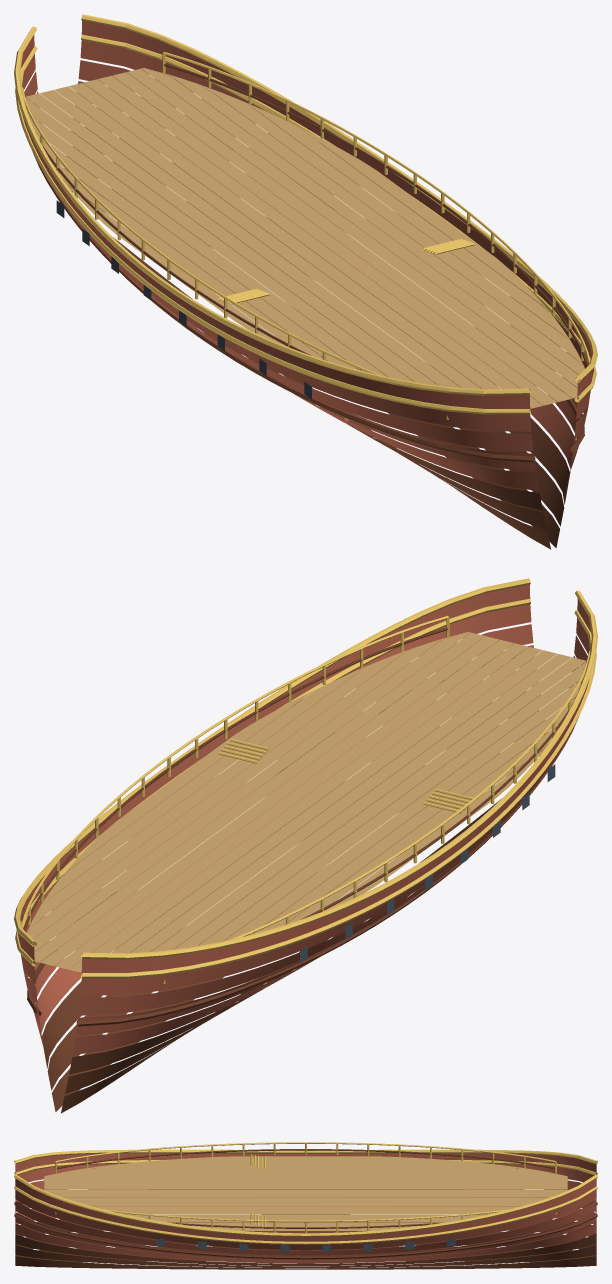
Rendered from red-force-hull.glb.
3 views of the same model, one above another, from view 1: azimuth 30°, elevation 25°; view 2: azimuth 150°, elevation 25°; view 3: azimuth 270°, elevation 25° (orthographic). The views are drawn at different scales.
Visible parts, largest first — view 1: hull-role-deck.019, hull-role-hull.019, hull-role-trim.019, hull-role-hullDark.019, hull-role-metal.019; view 2: hull-role-deck.019, hull-role-hull.019, hull-role-trim.019, hull-role-hullDark.019, hull-role-metal.019; view 3: hull-role-deck.019, hull-role-hull.019, hull-role-hullDark.019, hull-role-trim.019, hull-role-metal.019.
Boxes of the visible parts, box(x1,y1,x2,y2) form: hull-role-deck.019: box(25, 68, 584, 408); hull-role-hull.019: box(20, 20, 593, 490); hull-role-trim.019: box(14, 14, 597, 419); hull-role-hullDark.019: box(32, 63, 588, 549); hull-role-metal.019: box(56, 200, 311, 399); hull-role-deck.019: box(27, 632, 586, 972); hull-role-hull.019: box(18, 584, 591, 1054); hull-role-trim.019: box(14, 578, 597, 983); hull-role-hullDark.019: box(23, 627, 579, 1113); hull-role-metal.019: box(300, 764, 555, 963); hull-role-deck.019: box(44, 1156, 567, 1230); hull-role-hull.019: box(15, 1153, 596, 1263); hull-role-hullDark.019: box(14, 1149, 597, 1269); hull-role-trim.019: box(14, 1142, 597, 1244); hull-role-metal.019: box(156, 1239, 455, 1251).
Size of the model in its own units: 26.95 by 14.4 by 78.36.
